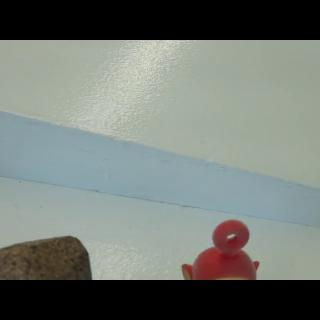teletubby: (182, 220, 259, 280)
